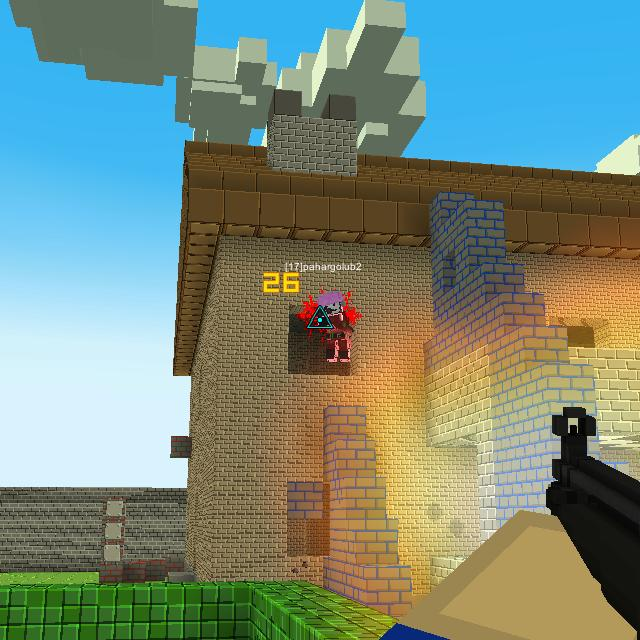enemy: (312, 288, 354, 364)
